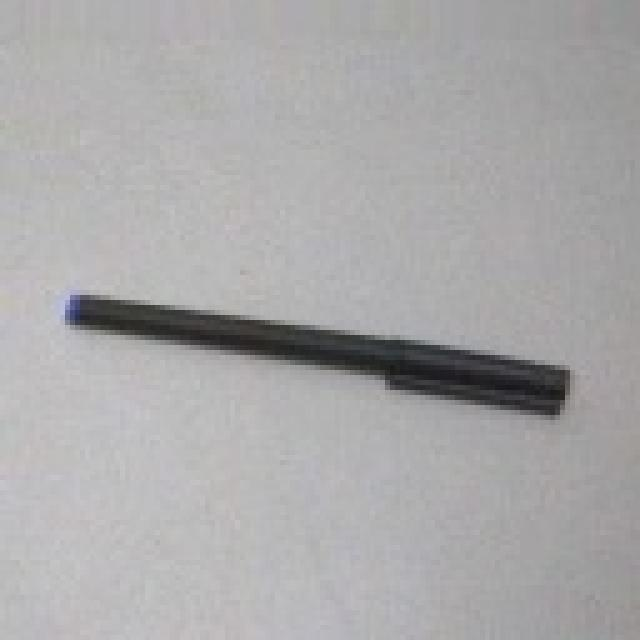pen: (59, 284, 580, 429)
